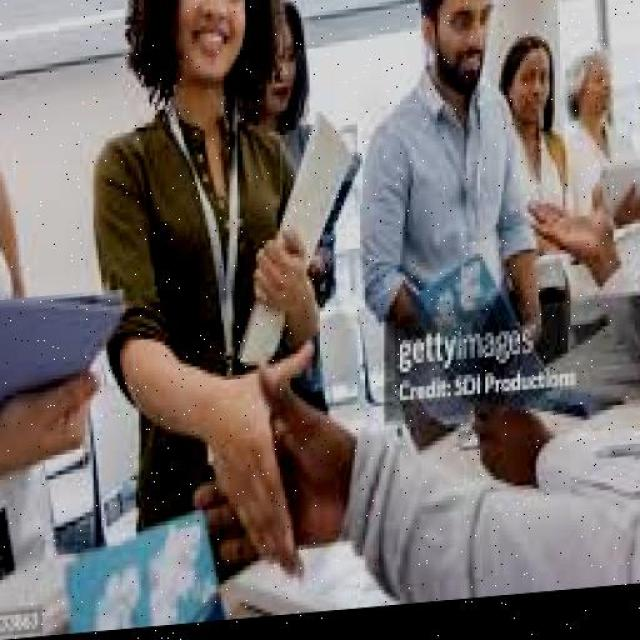id_card: (158, 86, 260, 366)
